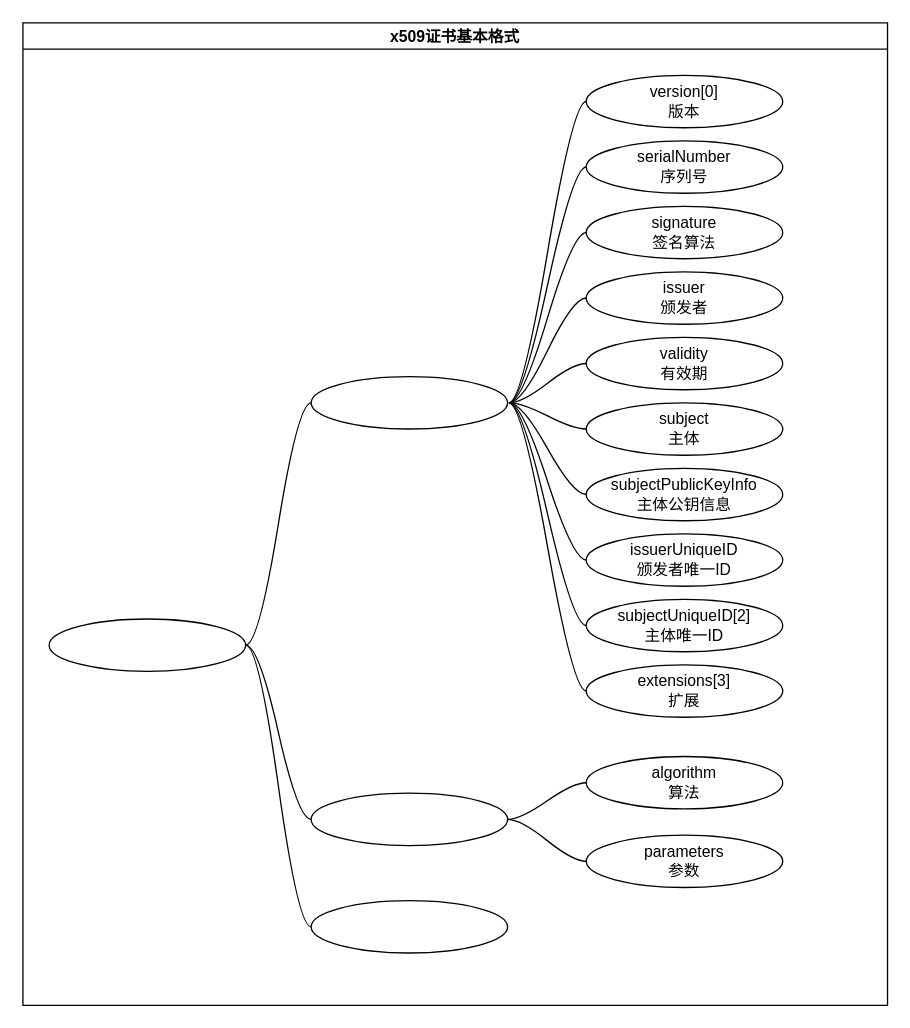
Some shapes in this 910 by 1028 pixel diagram are drawn without their labels. The centre of each missing label's shape, as x and y in pixels:
algorithmIdentifier 签名算法: (409,819)
certificate X509: (147,644)
signature 签名: (409,926)
tbsCertificate 证书: (409,402)
